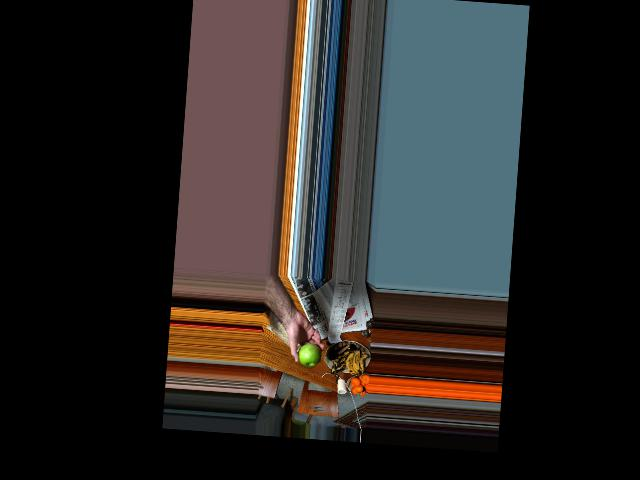apple: (297, 343, 322, 368)
